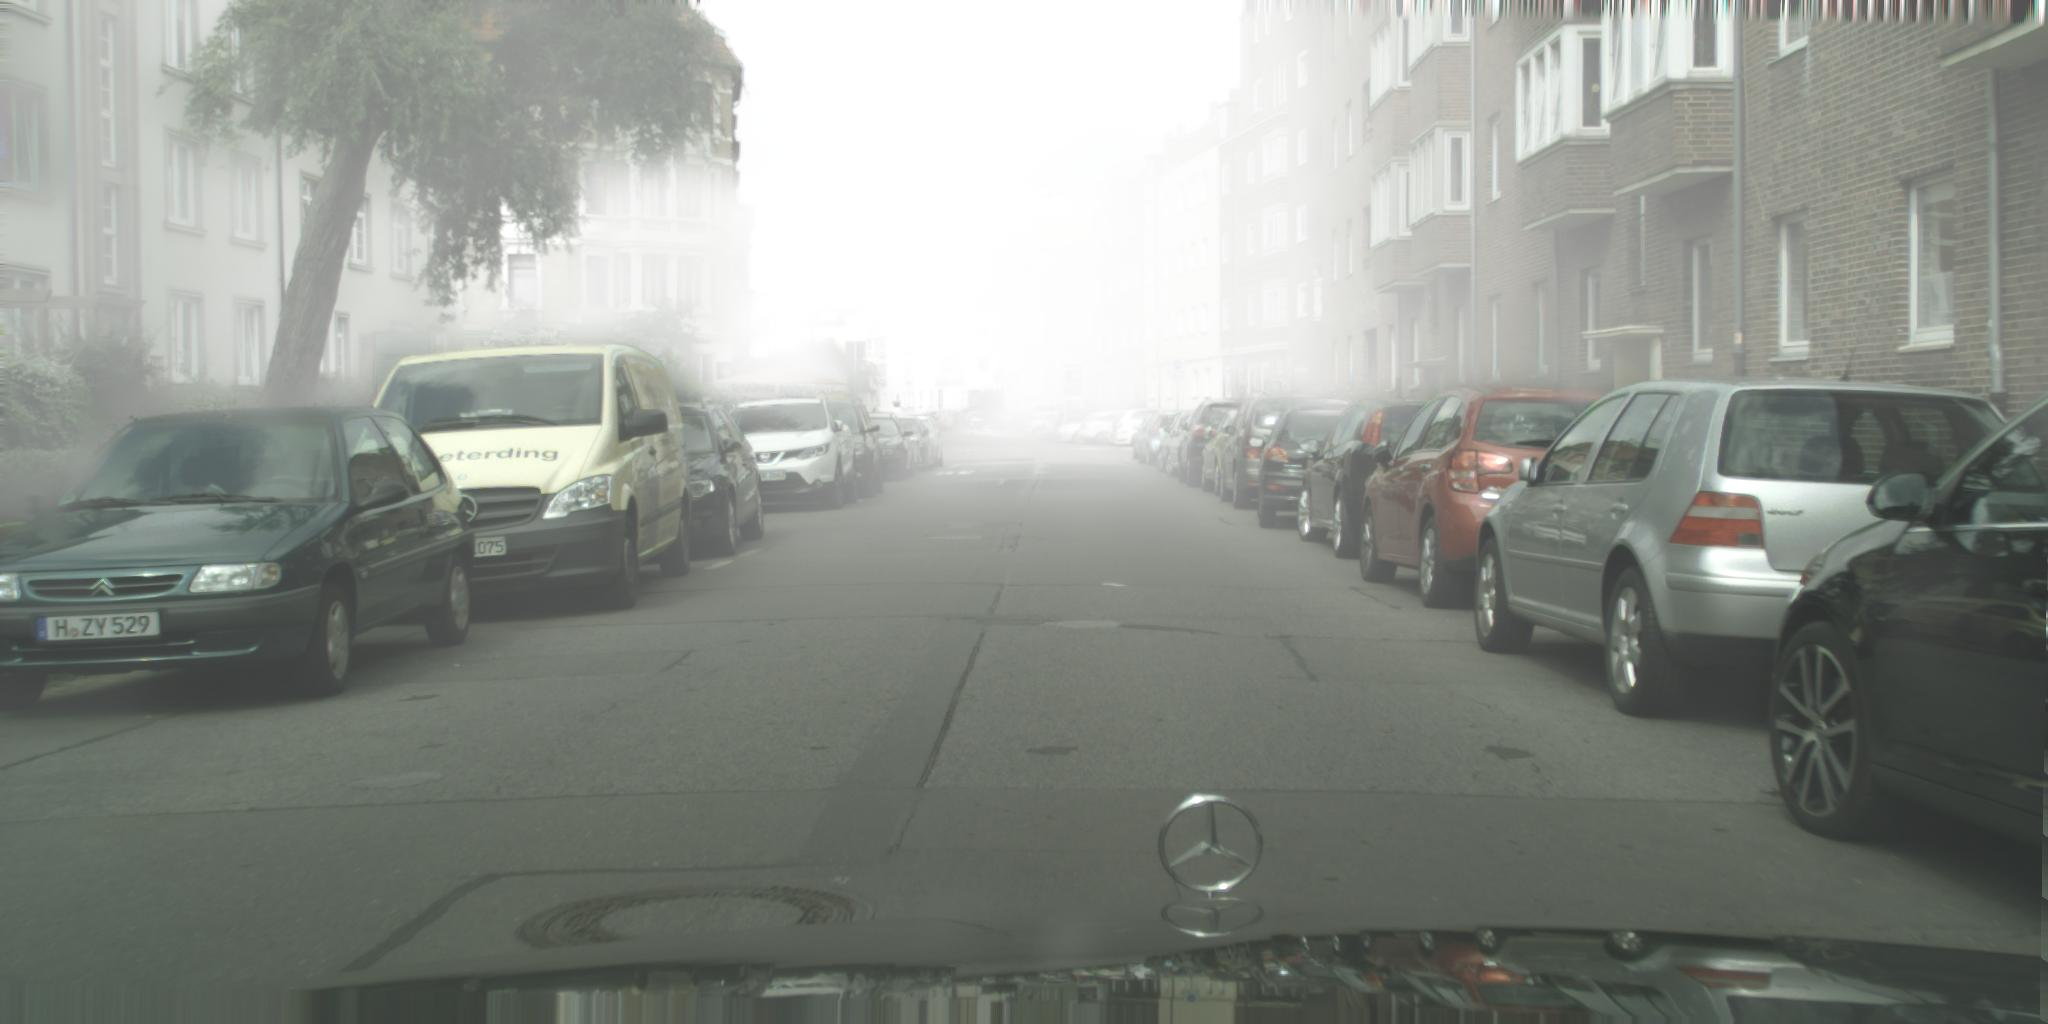car: (1475, 377, 2034, 718), (1, 408, 475, 711), (1768, 391, 2048, 859), (347, 344, 694, 613), (1358, 387, 1613, 610), (1297, 398, 1448, 560), (640, 398, 765, 558), (1221, 391, 1353, 509), (725, 398, 858, 511), (1258, 404, 1366, 529), (814, 398, 884, 499), (1179, 396, 1253, 488), (1202, 411, 1258, 498), (869, 413, 944, 473), (858, 413, 916, 481), (1157, 411, 1206, 478), (1139, 410, 1189, 466), (892, 413, 935, 473), (999, 402, 1067, 440), (1079, 410, 1149, 445), (1113, 410, 1172, 448), (984, 404, 1042, 440), (1054, 408, 1112, 435), (959, 411, 1014, 439), (1014, 411, 1063, 441), (1132, 414, 1160, 461), (1025, 411, 1064, 441), (952, 413, 998, 438), (1053, 421, 1089, 445), (1042, 415, 1068, 441)
